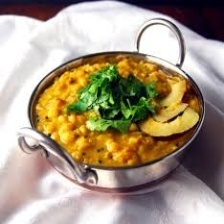sabzi: (33, 58, 201, 168)
